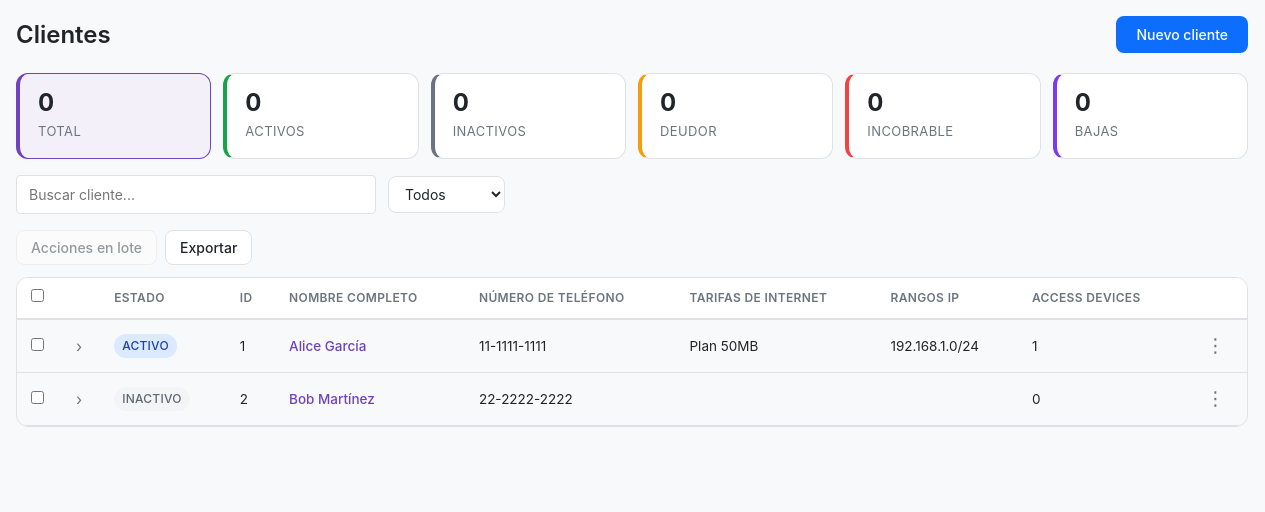
Test: CustomersListPage › clicking expand button shows expanded email panel for that client
This screenshot has width=1265, height=512.
Click the button named "Expandir fila": (79, 346) [72,332,86,360]
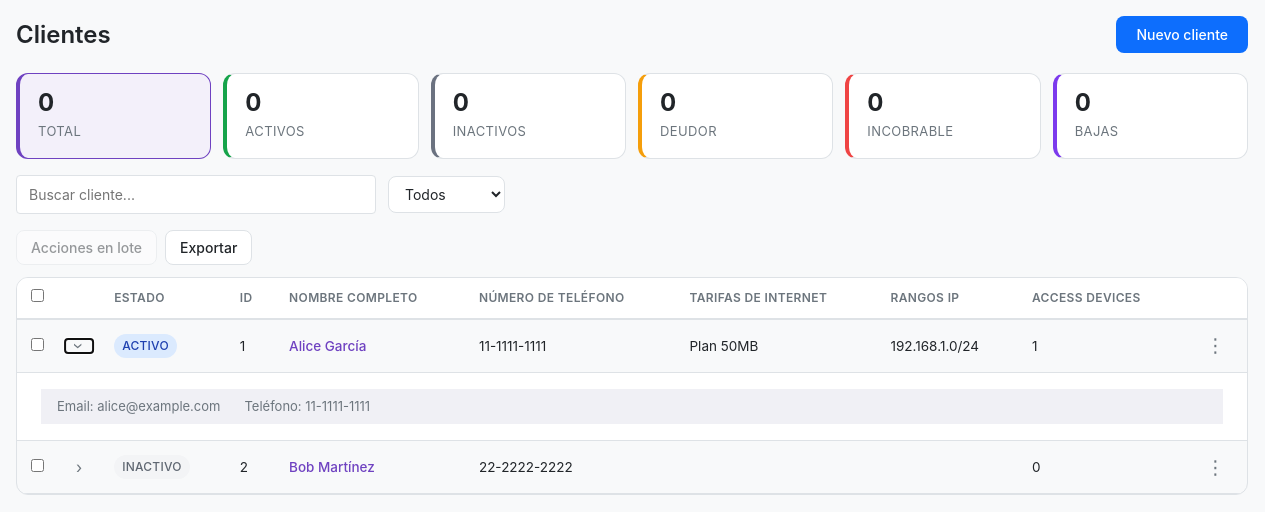
Expected: the text "Email: alice@example.com" is shown, [57,397,220,416]
Expected: the text "Teléfono: 11-1111-1111" is shown, [244,397,370,416]
